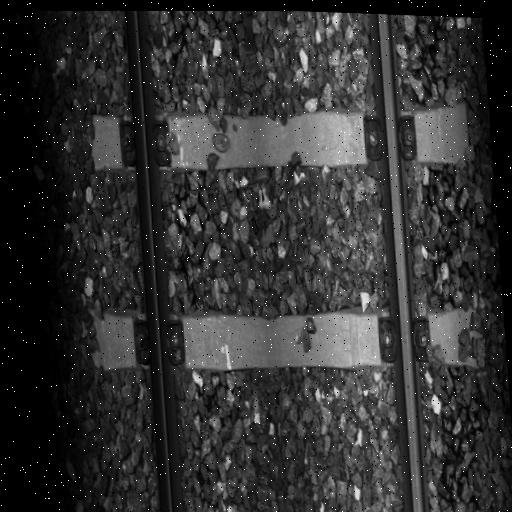clip: (129, 310, 183, 366), (375, 309, 429, 363), (362, 113, 418, 164), (117, 115, 171, 165)
sleeper: (87, 293, 484, 387), (72, 93, 469, 184)
